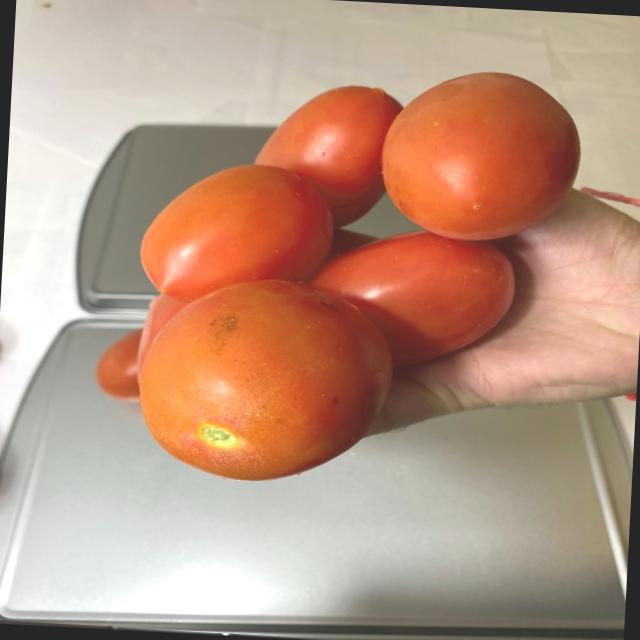tomato: (91, 52, 588, 494)
